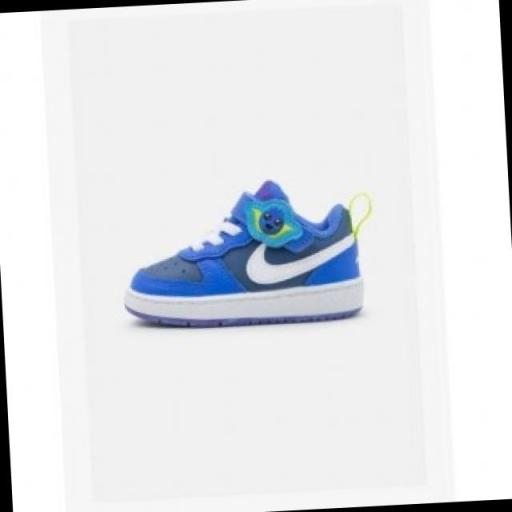Nike: (242, 231, 359, 284)
